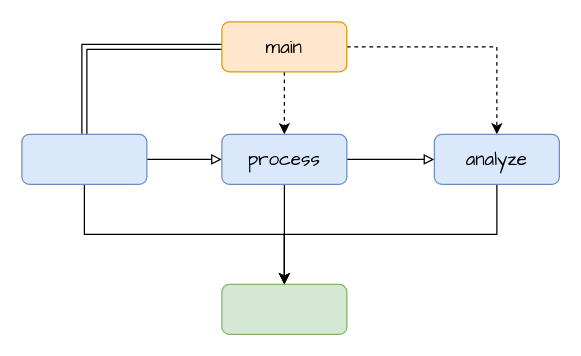
The diagram is 581 pixels wide and 356 high, and some of its shapes have lost their labels. The centre of each missing label's shape, as x and y in pixels:
crawler: point 84,158
storage: point 284,308
